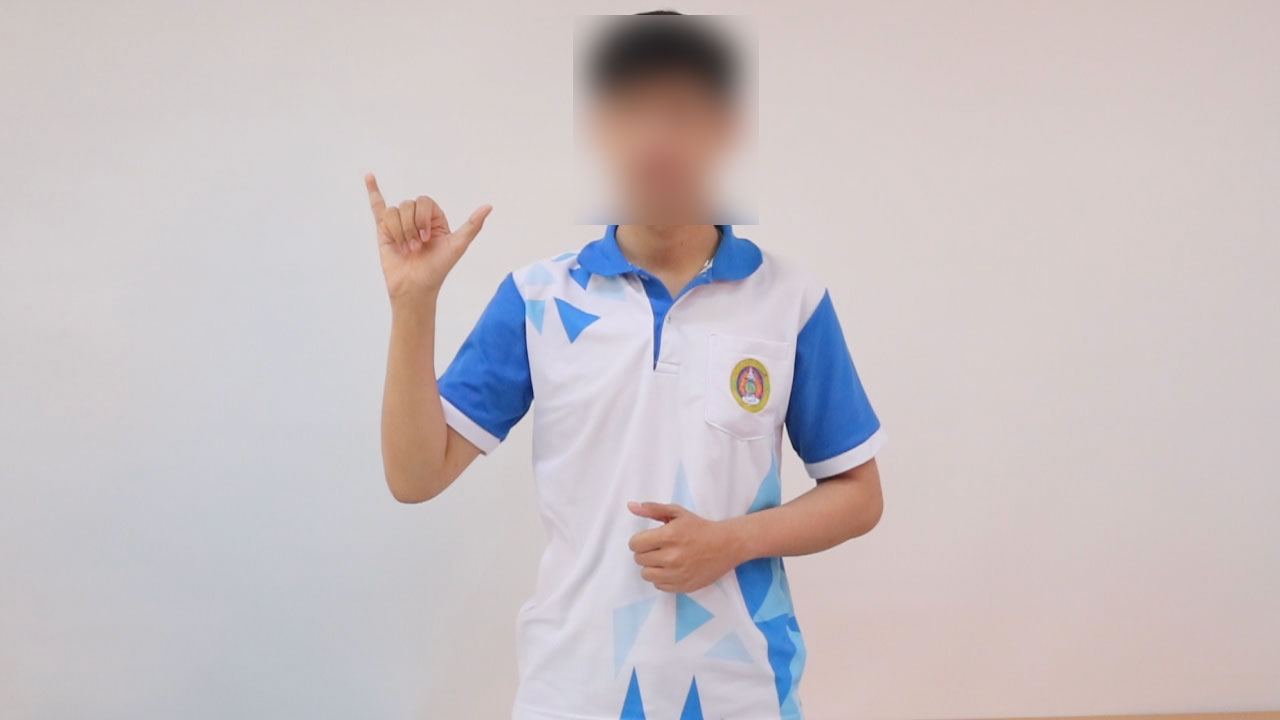yor: (349, 167, 499, 301)
